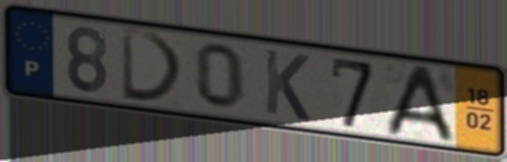0: (193, 42, 249, 112)
7: (329, 55, 377, 131)
8: (65, 25, 110, 96)
A: (382, 64, 459, 144)
D: (119, 26, 189, 106)
K: (261, 46, 312, 125)
